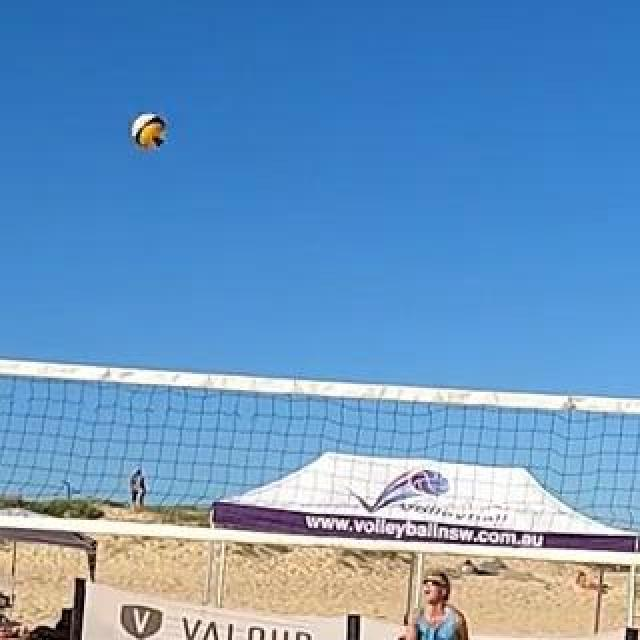volleyball: (131, 114, 167, 150)
